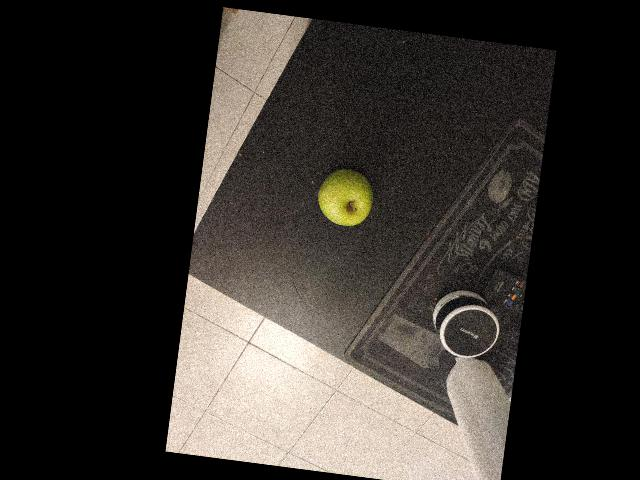apple: (196, 270, 284, 349)
